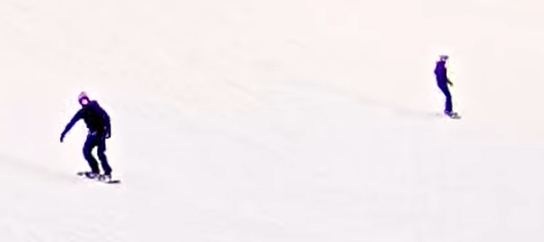snowboarder: (59, 91, 122, 185), (431, 53, 462, 120)
